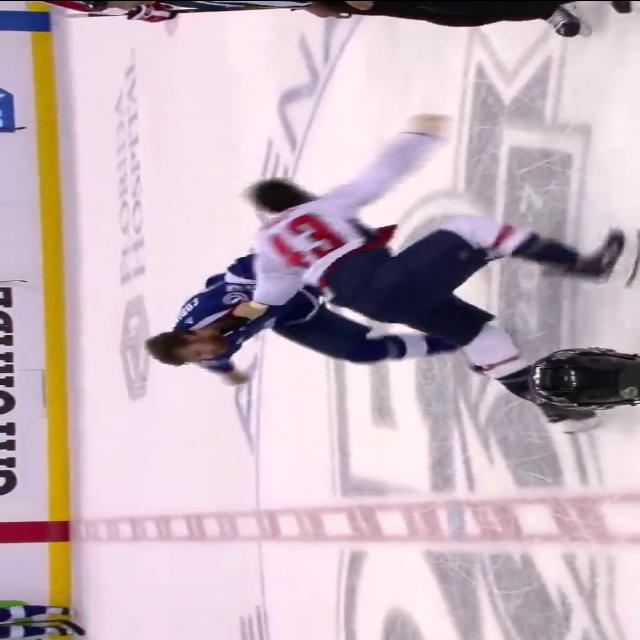Violence: (145, 119, 563, 387)
